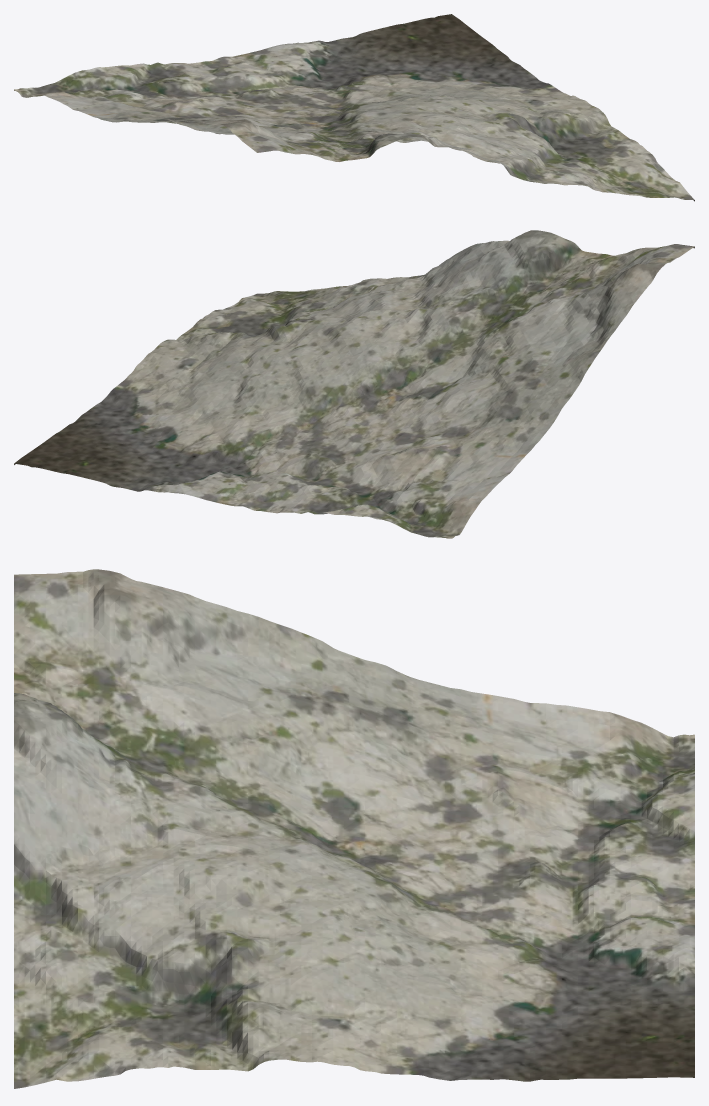
The picture shows the model from 3 angles, top to bottom: view 1: azimuth 30°, elevation 25°; view 2: azimuth 150°, elevation 25°; view 3: azimuth 270°, elevation 25°; orthographic projection. The views are drawn at different scales.
Size of the model in its own units: 250 by 87.05 by 241.
1 material, 1 textured.
